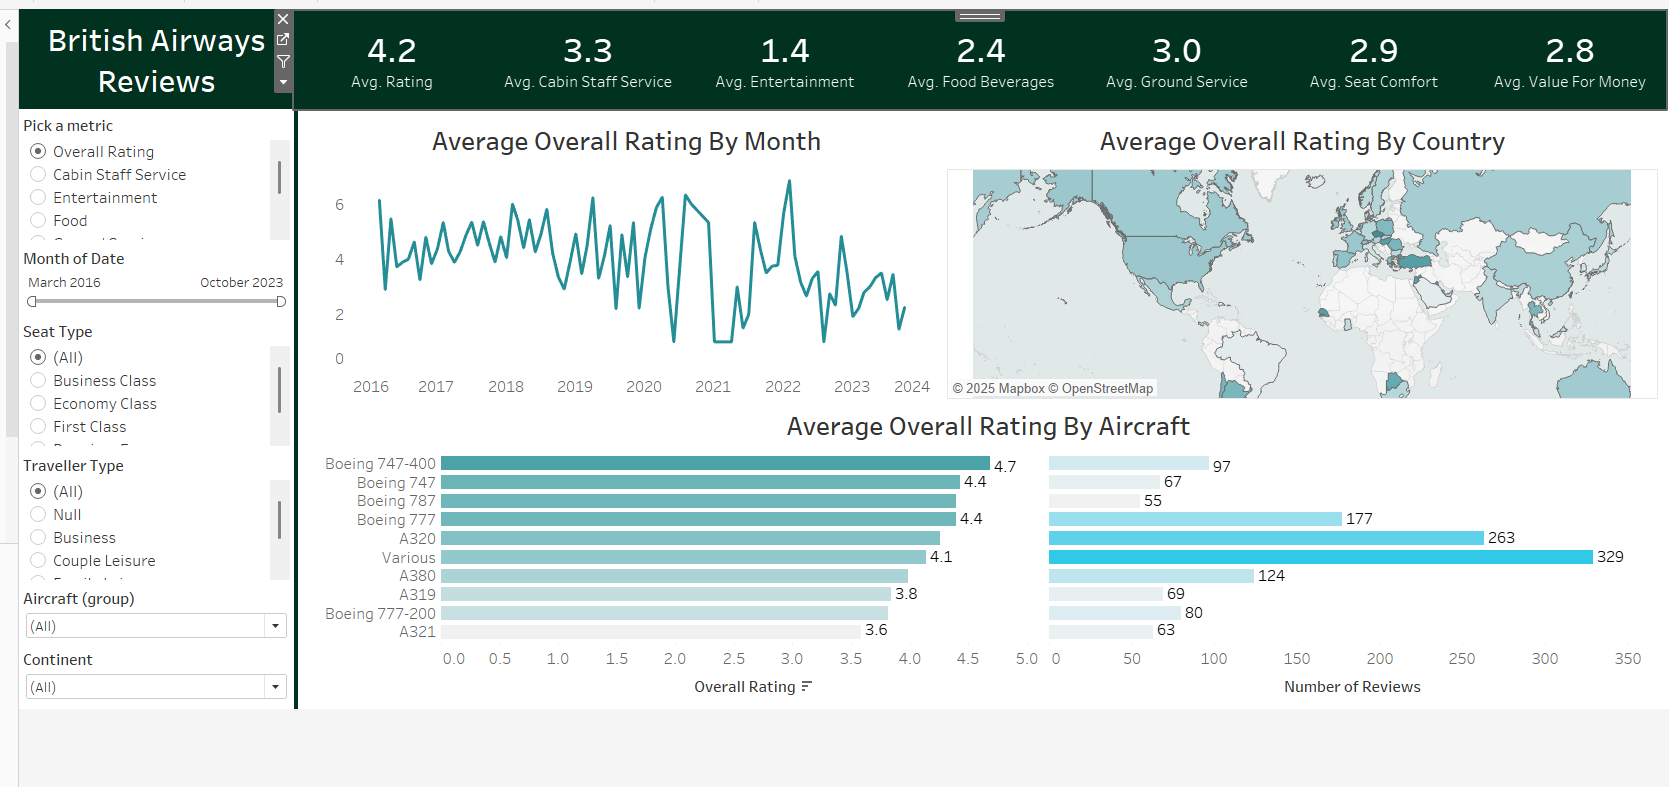

Layout of this report page (visuals, bound fields, positions):
{"tool":"tableau","page":{"name":"Dashboard 1","canvas":[1650,700],"ordinal":0},"visuals":[{"type":"text","box":[0,0,275,100]},{"type":"worksheet","title":"summary","mark":"Automatic","box":[275,0,1373.6,100]},{"type":"blank","box":[275,100,4.1,600]},{"type":"parameter","param":"[Parameters].[Parameter 1]","box":[0,102,275,133.3]},{"type":"worksheet","title":"Month","mark":"Automatic","rows":["Calculation_467529988195790848"],"cols":["date"],"box":[302.5,110,610.5,280]},{"type":"worksheet","title":"Map","mark":"Automatic","box":[928.1,110,710.9,280]},{"type":"filter","title":"Map","param":"[federated.1pcnwoo1g4pvph10ksfk00hadk1e].[tmn:date:qk]","box":[0,235.3,275,73]},{"type":"filter","title":"Map","param":"[federated.1pcnwoo1g4pvph10ksfk00hadk1e].[none:seat_type:nk]","box":[0,308.3,275,133.3]},{"type":"worksheet","title":"Aircraft","mark":"Automatic","cols":["Calculation_467529988195790848","ba_reviews.csv_693B5AD7C0CC43C9AB5E245D8FB67E5F"],"box":[302.5,395,1335.1,300]},{"type":"filter","title":"Map","param":"[federated.1pcnwoo1g4pvph10ksfk00hadk1e].[none:traveller_type:nk]","box":[0,441.7,275,133.3]},{"type":"filter","title":"Map","param":"[federated.1pcnwoo1g4pvph10ksfk00hadk1e].[Aircraft (group)]","box":[0,575,275,61]},{"type":"filter","title":"Map","param":"[federated.1pcnwoo1g4pvph10ksfk00hadk1e].[none:Continent:nk]","box":[0,636,275,61]}]}

Visuals, with their boxes in screenshot pixels (x1, y1, x2, y2):
text: 26/4/291/101
"summary" worksheet: 291/4/1612/101
blank: 291/101/295/678
parameter: 26/102/291/231
"Month" worksheet: 317/110/905/380
"Map" worksheet: 919/110/1603/380
"Map" filter: 26/231/291/301
"Map" filter: 26/301/291/429
"Aircraft" worksheet: 317/384/1602/673
"Map" filter: 26/429/291/558
"Map" filter: 26/558/291/616
"Map" filter: 26/616/291/675
